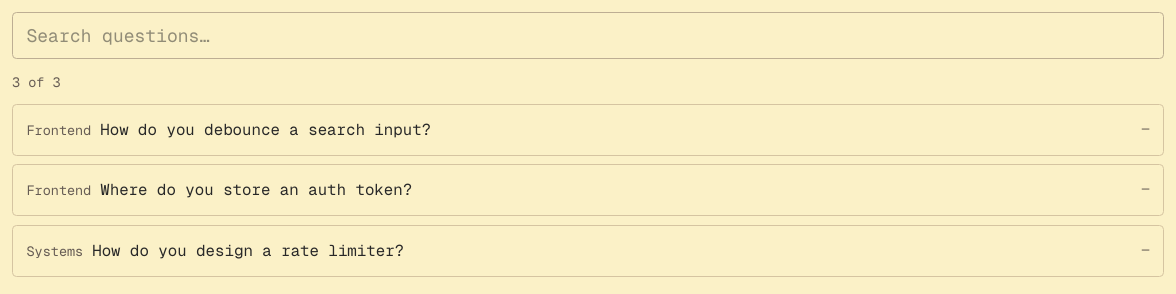
Test: Browse › search matches deeper material, not just the answer
In the search field with placeholder "Search questions…": {"x": 588, "y": 36} [12,12,1164,59], type "rotate"
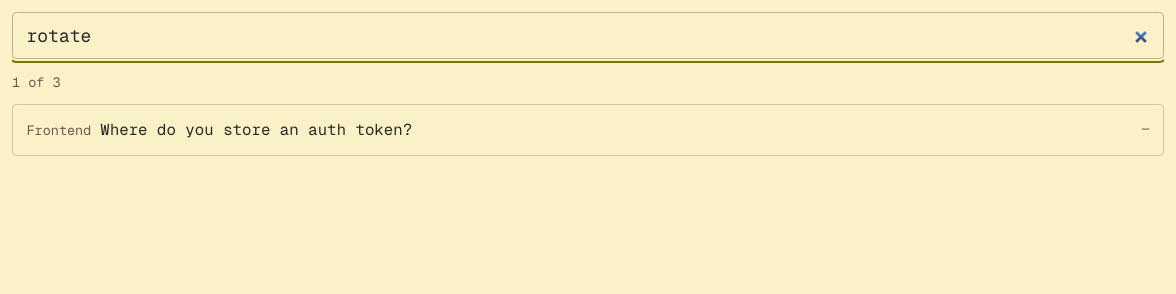
Check: the text "Where do you store an auth token?" is shown, box [100,118,412,140]
Check: the button "How do you design a rate limiter?" is gone
